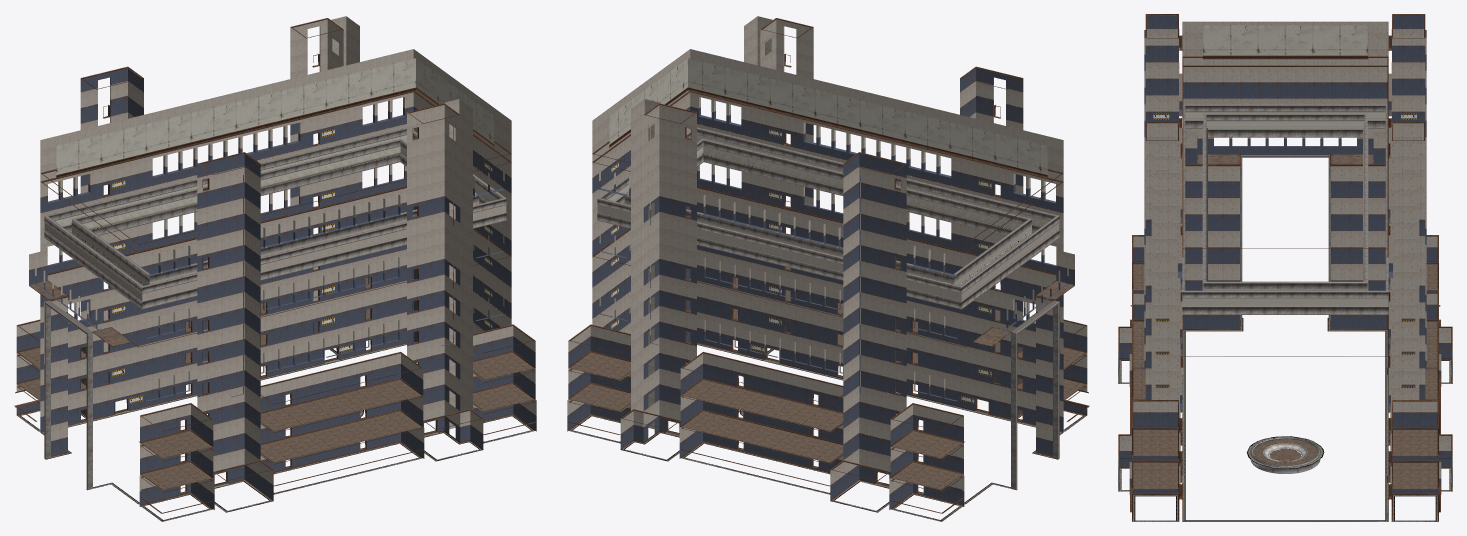
The model's file is rocket_factory_interior.glb.
The picture shows the model from 3 angles, left to right: view 1: azimuth 30°, elevation 25°; view 2: azimuth 150°, elevation 25°; view 3: azimuth 270°, elevation 25°; orthographic projection. The views are drawn at different scales.
Visible parts, largest first — view 1: rocket_factory_interior_LOD0; view 2: rocket_factory_interior_LOD0; view 3: rocket_factory_interior_LOD0.
Boxes of the visible parts, x1=… form: rocket_factory_interior_LOD0: x1=14, y1=16, x2=536, y2=521; rocket_factory_interior_LOD0: x1=567, y1=16, x2=1089, y2=521; rocket_factory_interior_LOD0: x1=1118, y1=14, x2=1452, y2=521.
Bounding box in the file's own units: 79.53 × 63.98 × 55.06.
9 materials, 9 textured.
